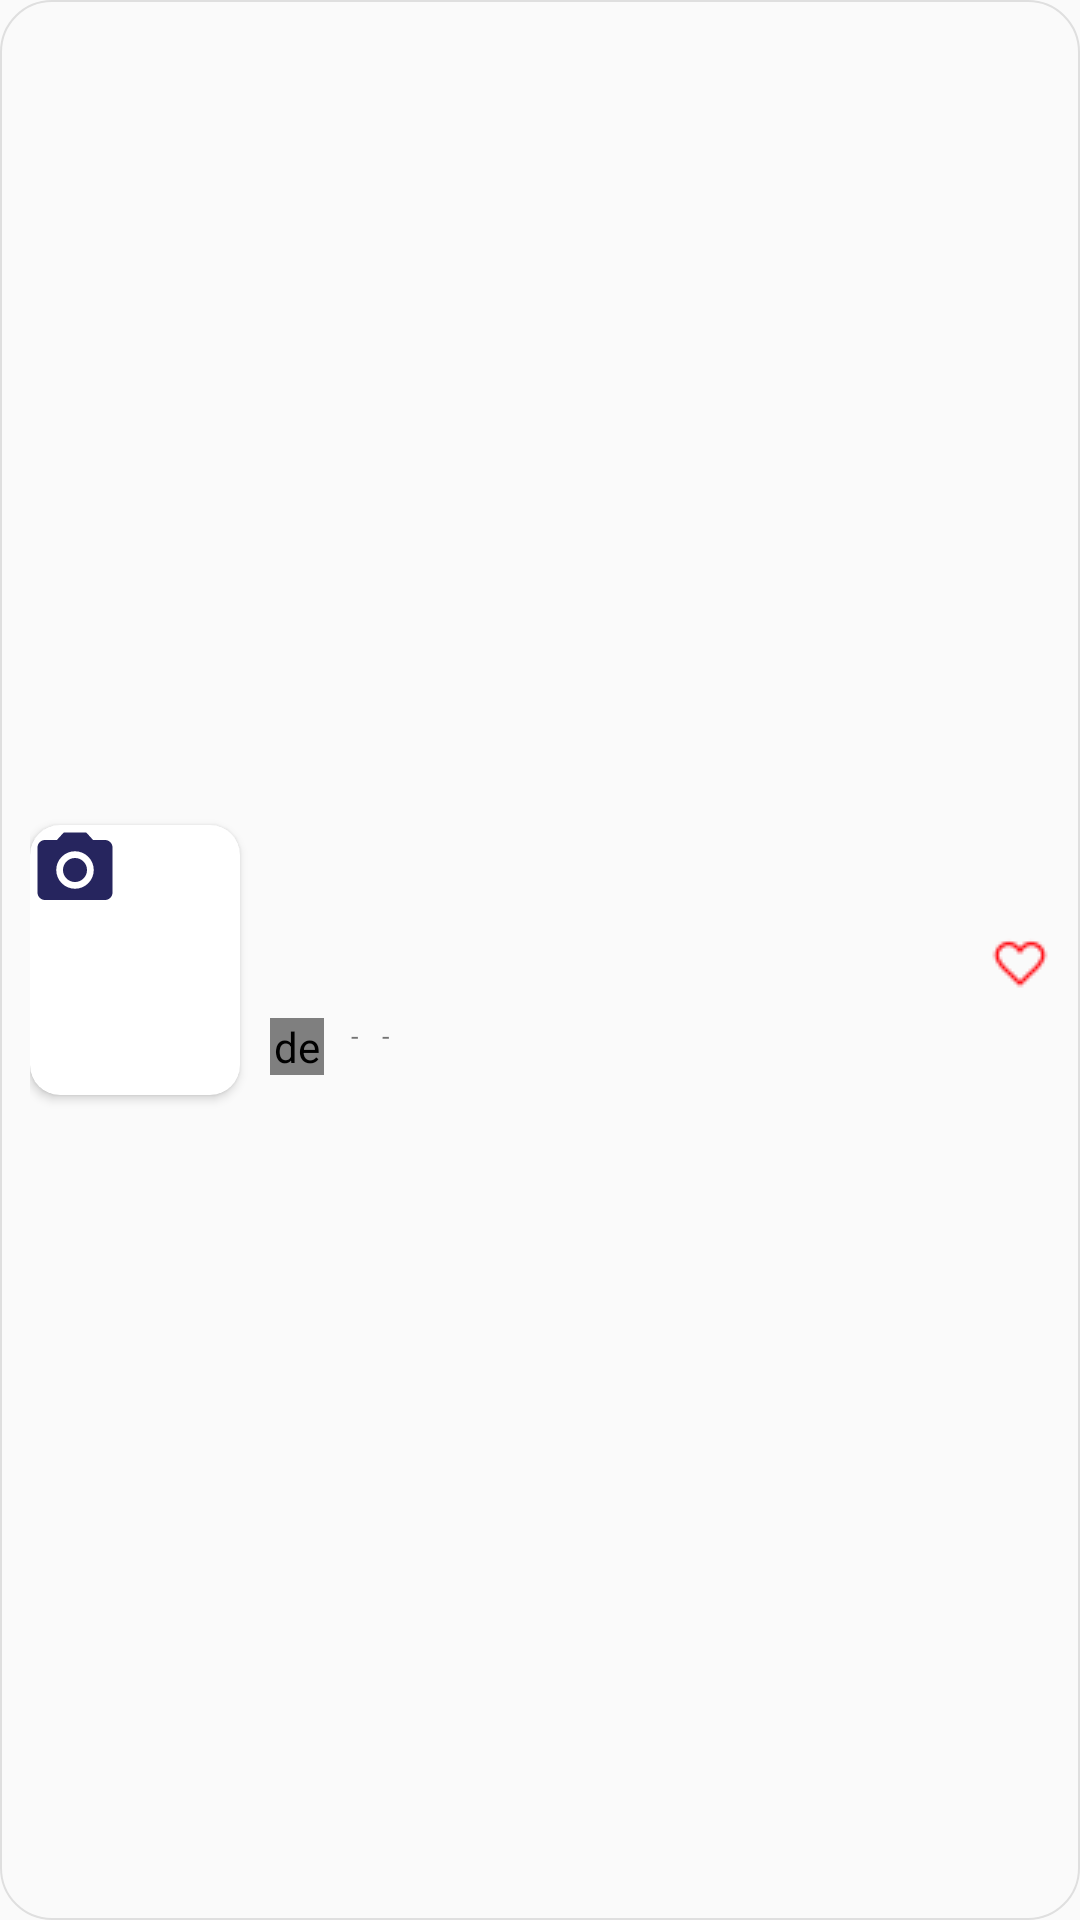

Point at icon controls on the screen. Image size 1080w x 1920h, points as [x,y].
heart: [1020,964]
